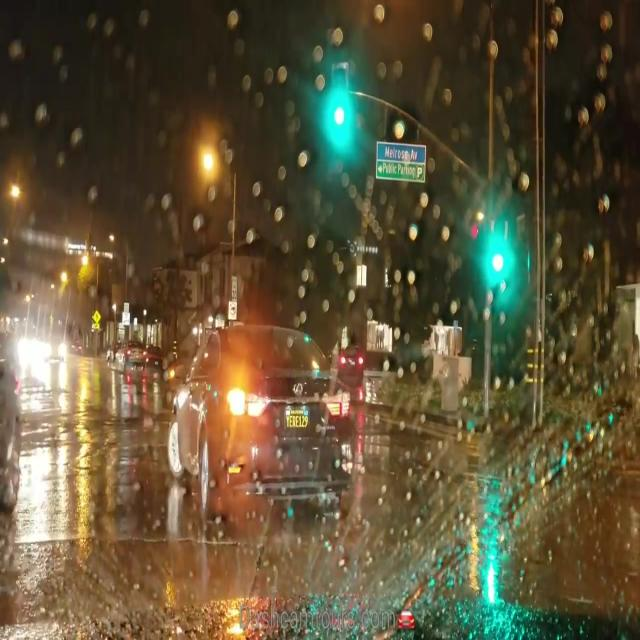Car: (163, 323, 352, 519)
